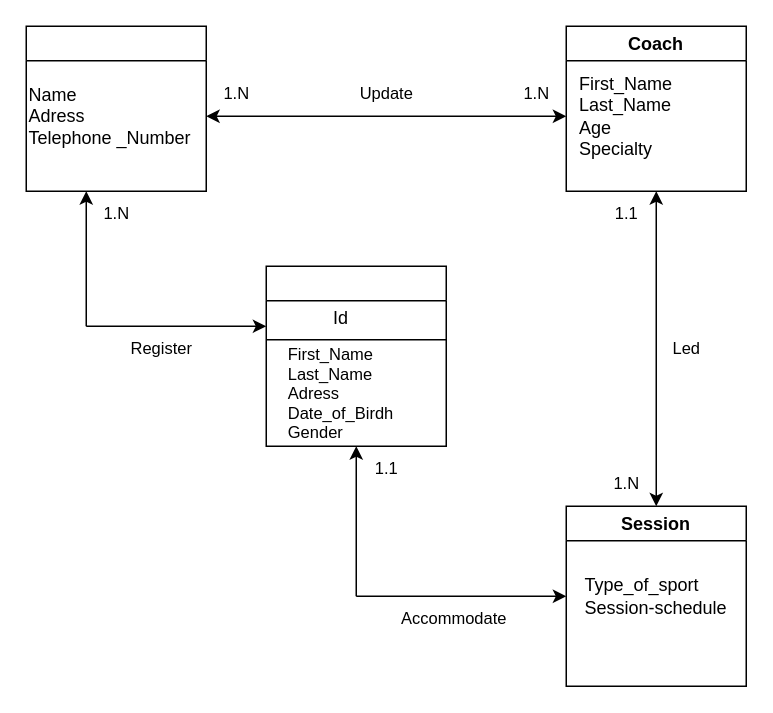
Image size: 773x713. Some labels were removed from this diagram. Here are the shapes that lost their labels. From the top down, the box of each, then its label:
(25, 25, 206, 191): Gym
(265, 265, 446, 446): Member
